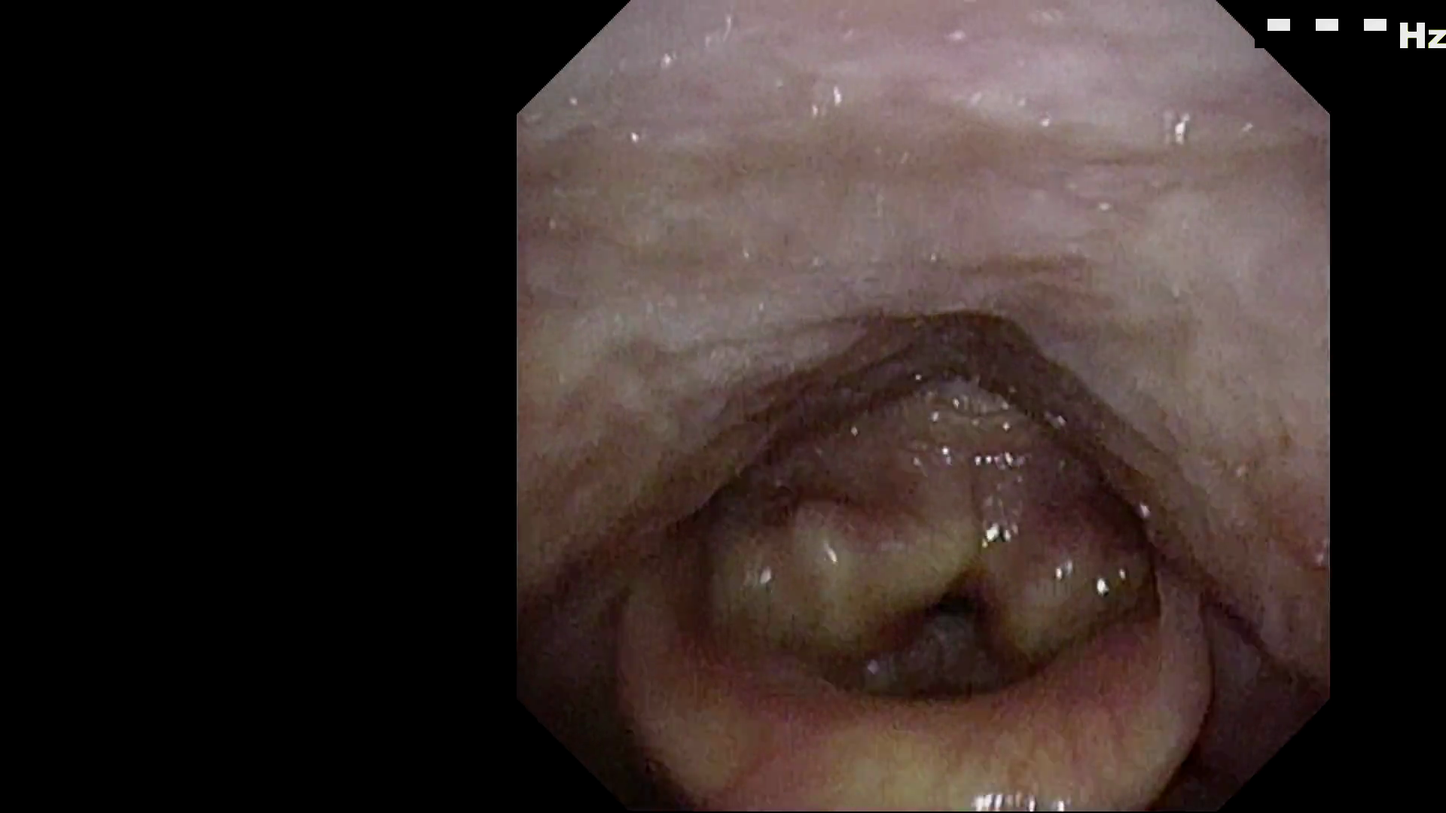epiglottis: (618, 569, 1211, 775)
trachea: (907, 573, 1006, 685)
